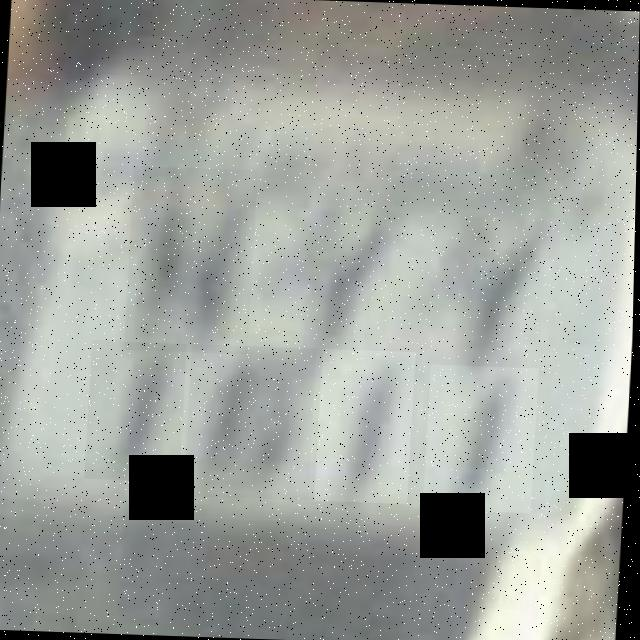1: (425, 364, 540, 513), (316, 348, 417, 504), (86, 340, 188, 483)
8: (185, 344, 318, 500)
N: (125, 165, 258, 354), (241, 178, 374, 350)
